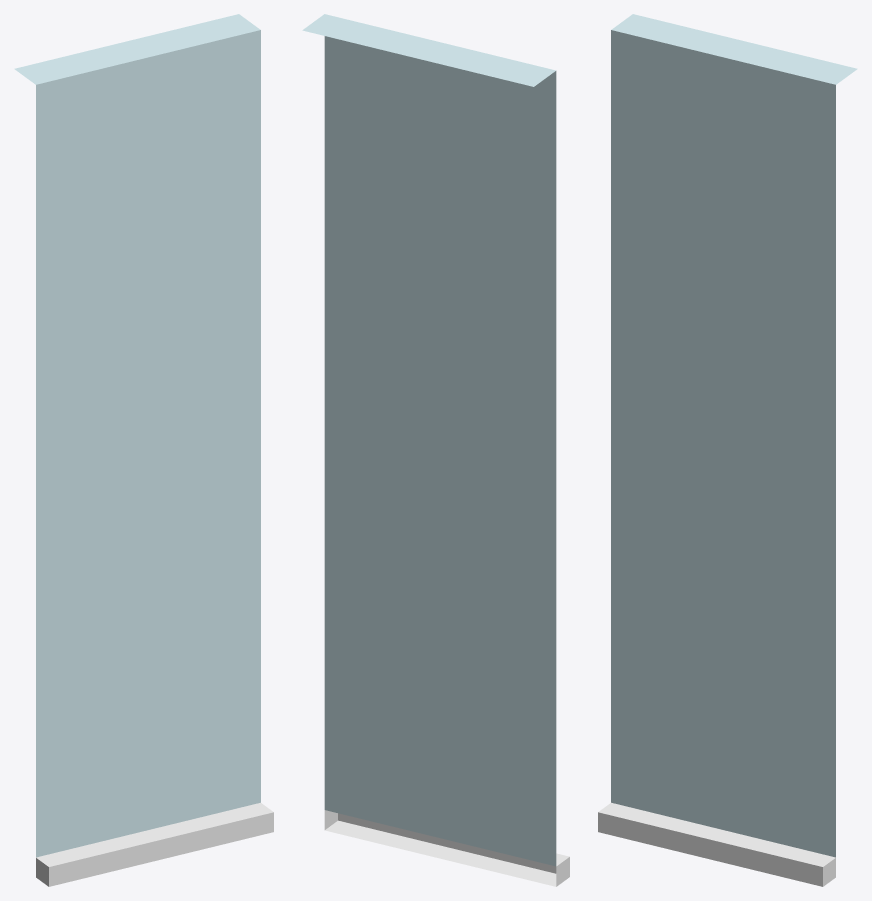
The model's file is 24_wall.FBX.
3 renders of one model, left to right at view 1: azimuth 30°, elevation 25°; view 2: azimuth 150°, elevation 25°; view 3: azimuth 330°, elevation 25°, orthographic. The views are drawn at different scales.
Visible parts, largest first — view 1: 24_wall; view 2: 24_wall; view 3: 24_wall.
Part boxes in pixels (x1=…): 24_wall: x1=14, y1=14, x2=273, y2=886; 24_wall: x1=302, y1=14, x2=569, y2=886; 24_wall: x1=598, y1=14, x2=857, y2=886.
Bounding box in the file's own units: 128 × 432 × 34.48.
